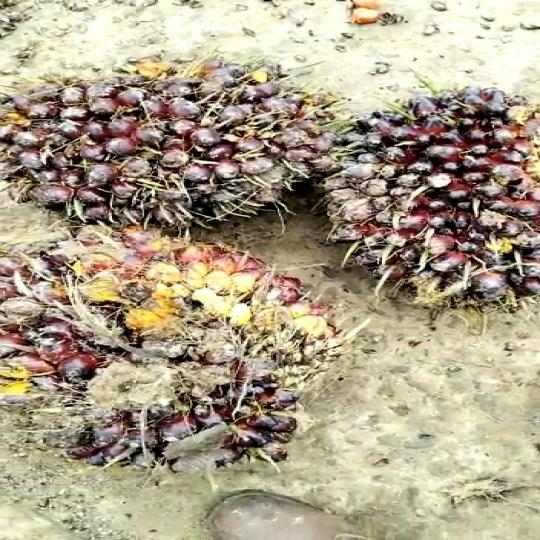kurang masak: (0, 231, 353, 478), (0, 46, 316, 230), (332, 73, 540, 333)
